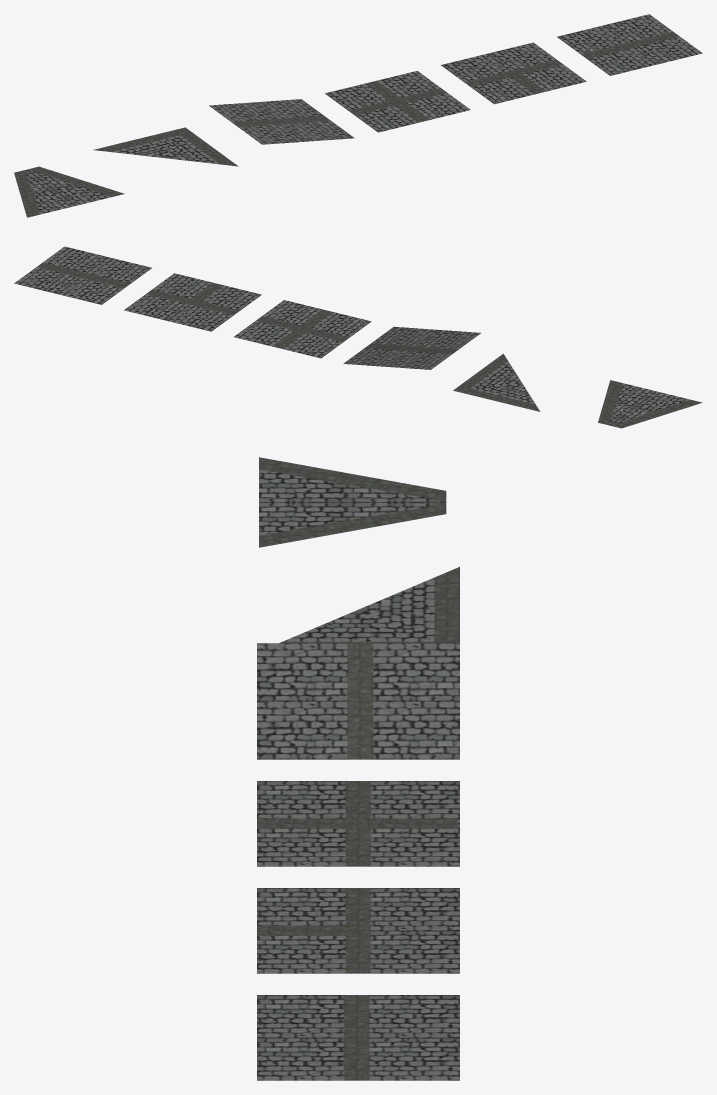
File: Streets_6m.fbx
3 renders of one model, top to bottom at view 1: azimuth 30°, elevation 25°; view 2: azimuth 150°, elevation 25°; view 3: azimuth 270°, elevation 25°, orthographic. The views are drawn at different scales.
Visible parts, largest first — view 1: Road_Flat, Road_T-Crossing, Road_X-Crossing, Road_Tilted, Road_Corner_45, Road_Corner_90; view 2: Road_Flat, Road_T-Crossing, Road_X-Crossing, Road_Tilted, Road_Corner_45, Road_Corner_90; view 3: Road_Tilted, Road_Flat, Road_T-Crossing, Road_X-Crossing, Road_Corner_45, Road_Corner_90.
Part boxes in pixels (<box>): Road_Flat: <box>557,14,702,75</box>; Road_T-Crossing: <box>441,42,586,104</box>; Road_X-Crossing: <box>325,71,470,132</box>; Road_Tilted: <box>209,99,354,144</box>; Road_Corner_45: <box>14,166,124,217</box>; Road_Corner_90: <box>93,127,238,166</box>; Road_Flat: <box>14,246,151,304</box>; Road_T-Crossing: <box>124,273,261,331</box>; Road_X-Crossing: <box>234,300,371,358</box>; Road_Tilted: <box>343,326,480,369</box>; Road_Corner_45: <box>598,380,702,428</box>; Road_Corner_90: <box>453,353,540,411</box>; Road_Tilted: <box>257,643,459,759</box>; Road_Flat: <box>257,995,459,1080</box>; Road_T-Crossing: <box>257,888,459,973</box>; Road_X-Crossing: <box>257,781,459,866</box>; Road_Corner_45: <box>259,457,446,547</box>; Road_Corner_90: <box>279,567,459,643</box>.
Bounding box in the file's own units: 4367 × 100 × 600.
